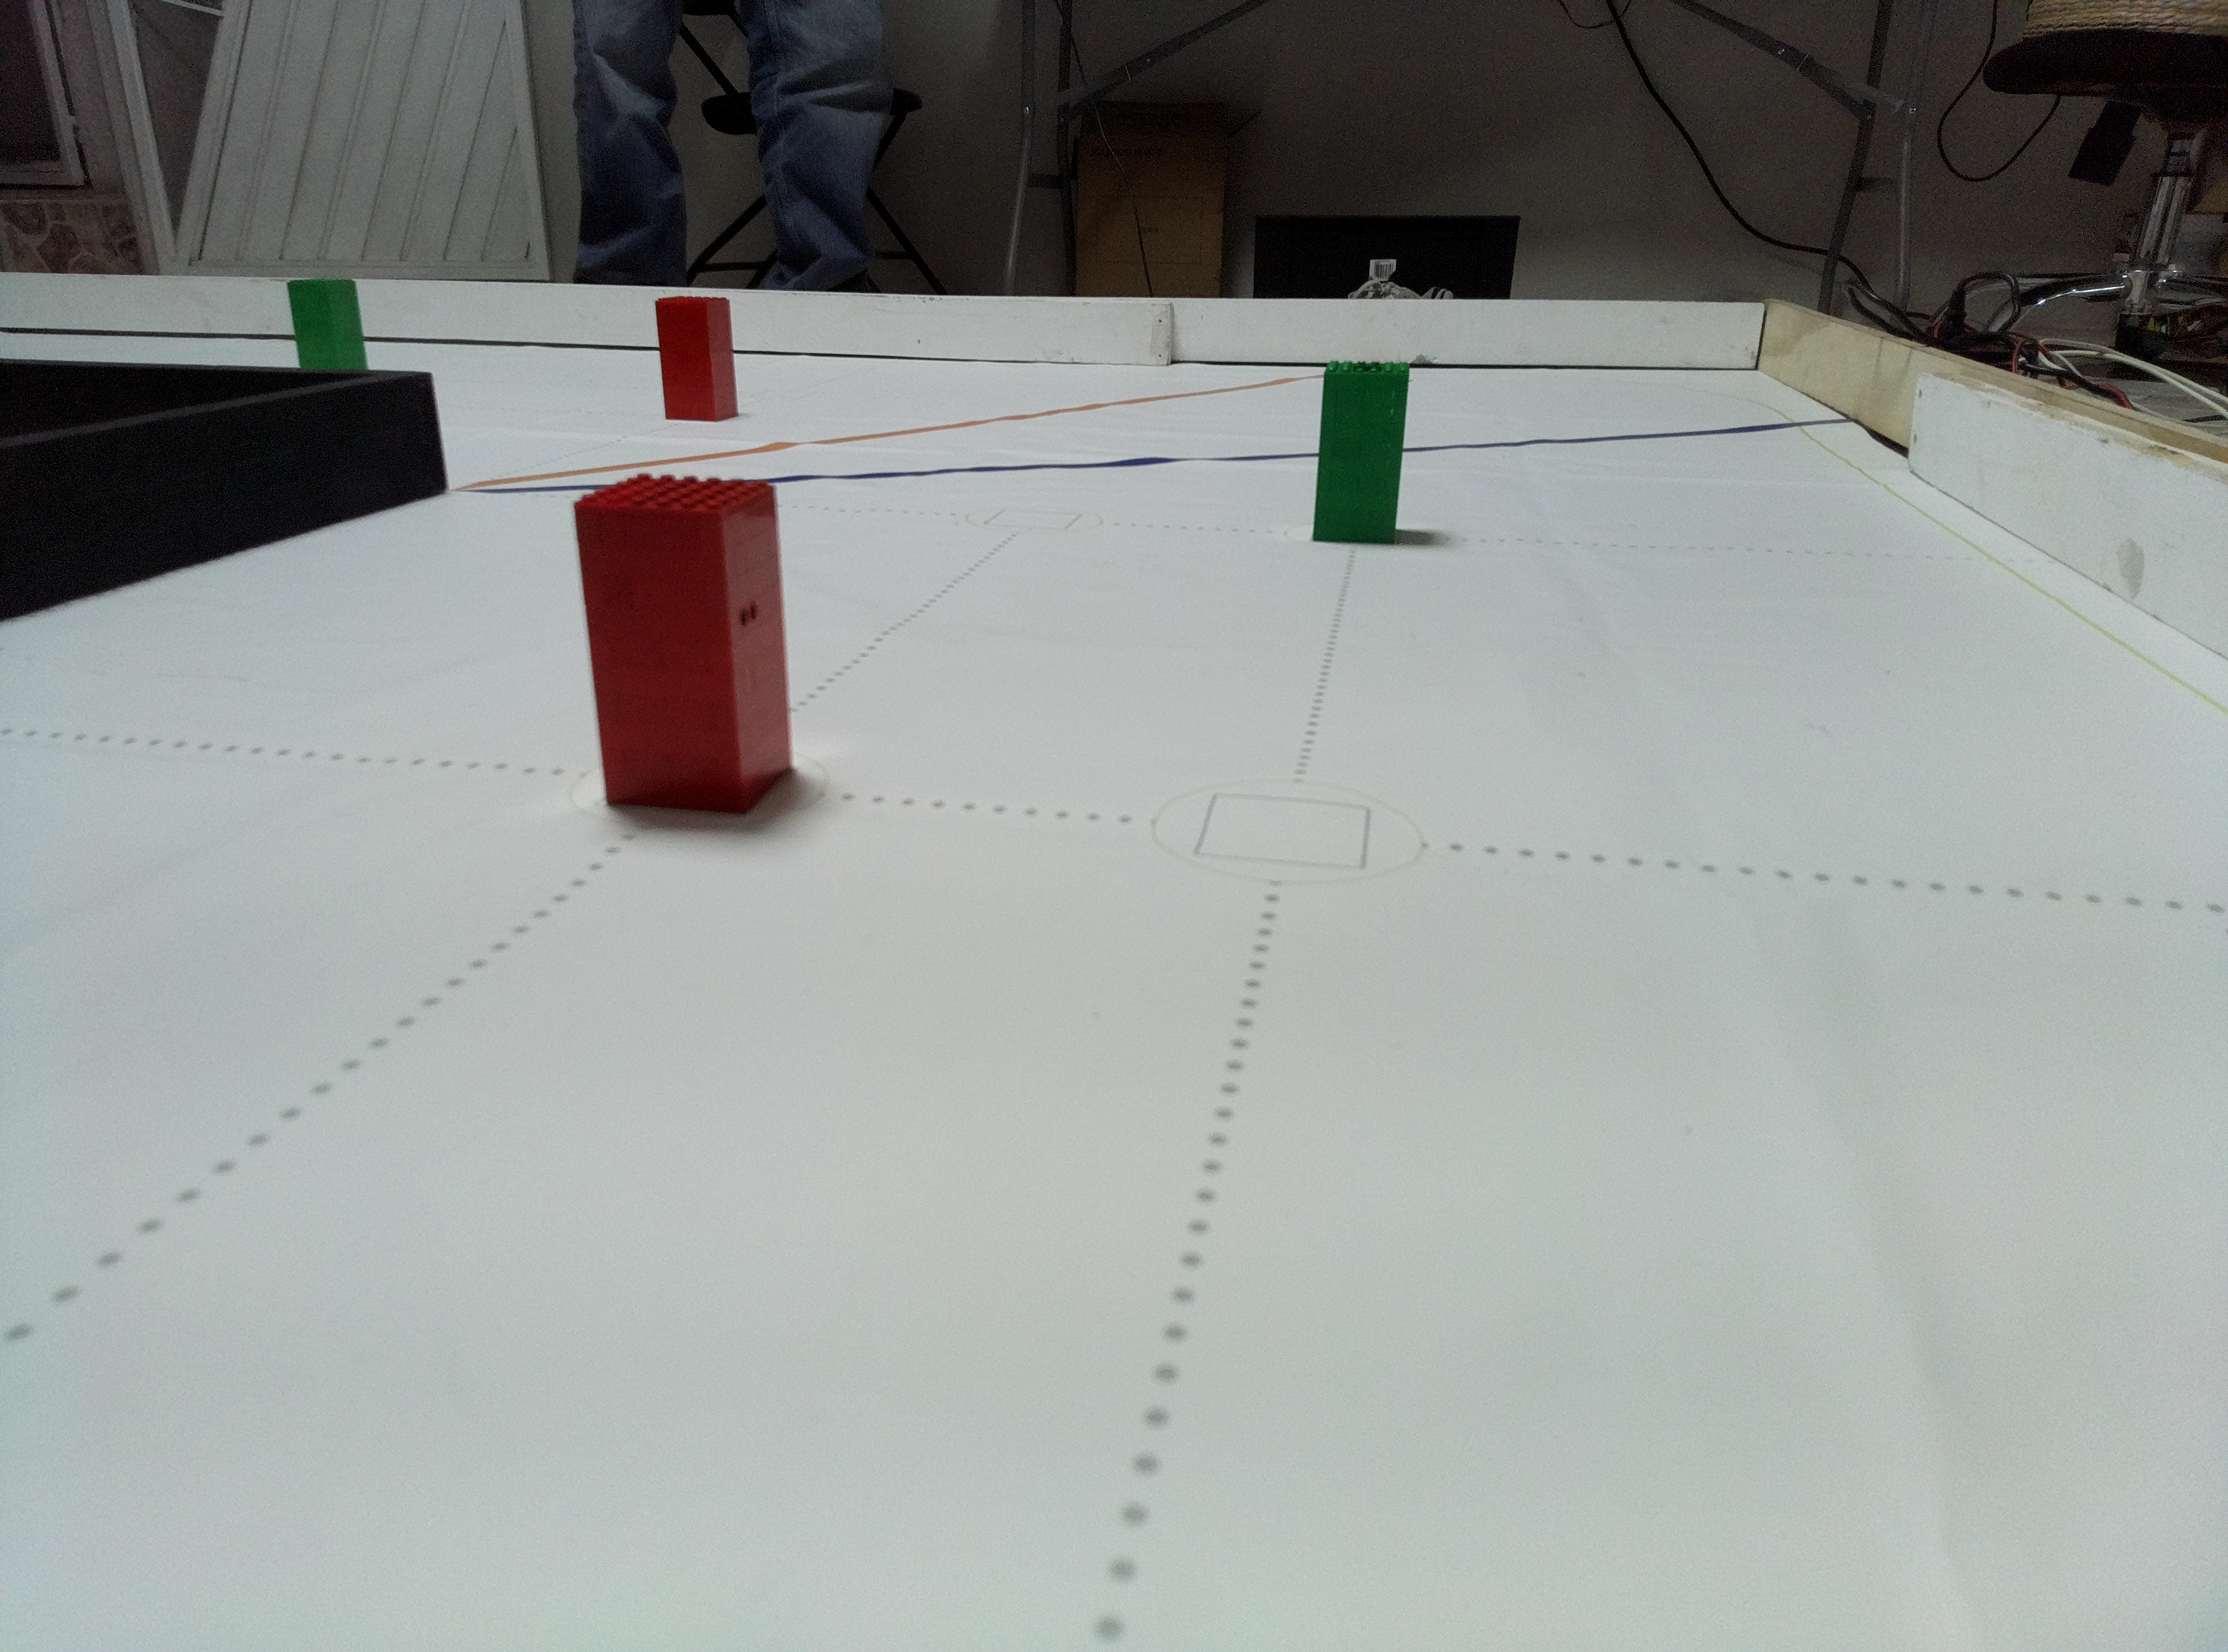greenbox: (1310, 354, 1399, 545), (281, 274, 373, 370)
redbox: (567, 469, 798, 826), (654, 297, 739, 425)
